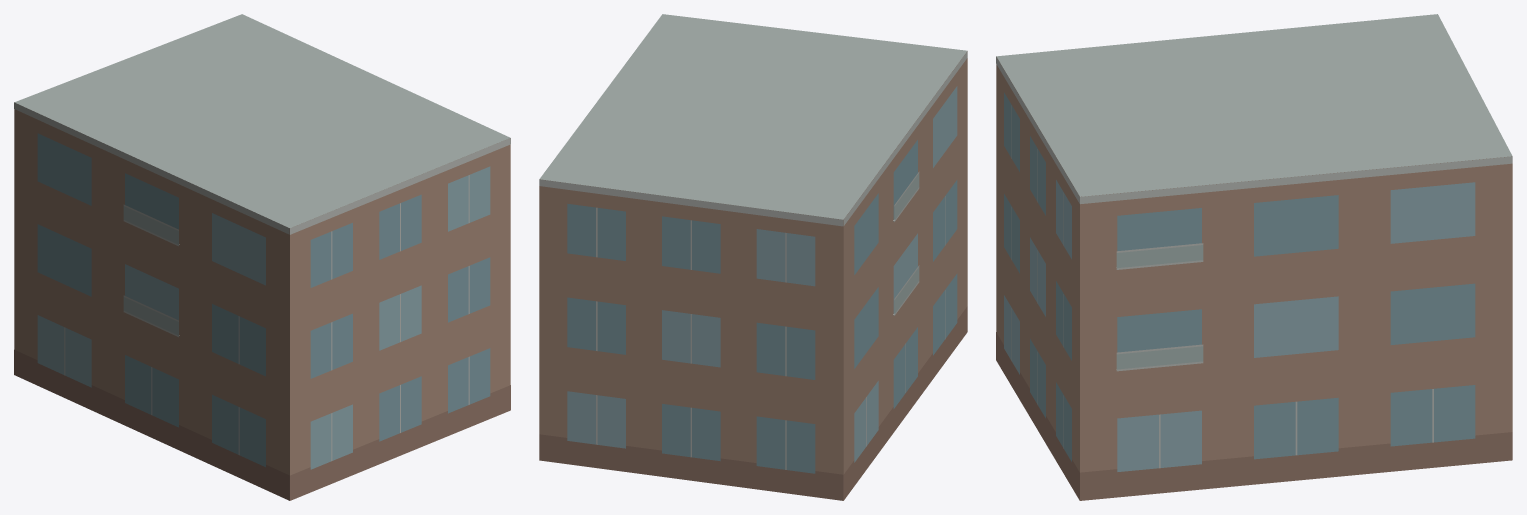
File: survey-upis-32498304.glb
3 views of the same model, side by side, from view 1: azimuth 30°, elevation 25°; view 2: azimuth 150°, elevation 25°; view 3: azimuth 270°, elevation 25° (orthographic). The views are drawn at different scales.
Visible parts, largest first — view 1: survey-upis-32498304.tmp; view 2: survey-upis-32498304.tmp; view 3: survey-upis-32498304.tmp.
Boxes of the visible parts, x1,y1,x2,y2 form: survey-upis-32498304.tmp: (14,14,510,500); survey-upis-32498304.tmp: (539,14,967,500); survey-upis-32498304.tmp: (996,14,1512,500).
Size of the model in its own units: 13.04 by 10.1 by 15.56.
